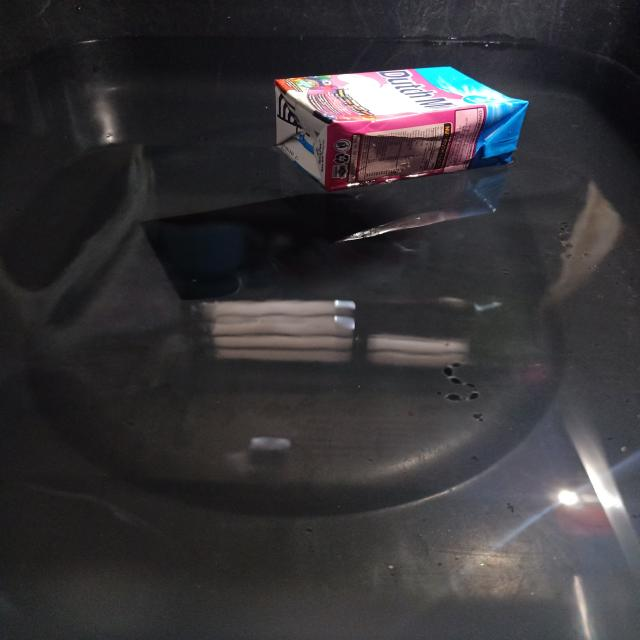Cardboard Box: (275, 67, 528, 191)
